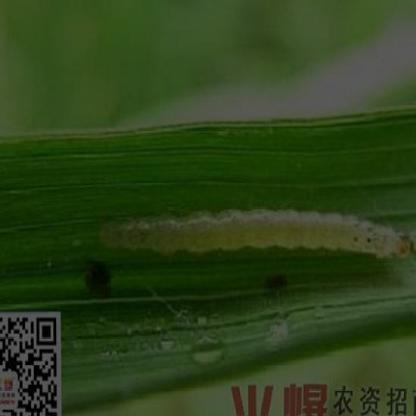leaf-folder: (105, 190, 416, 285)
